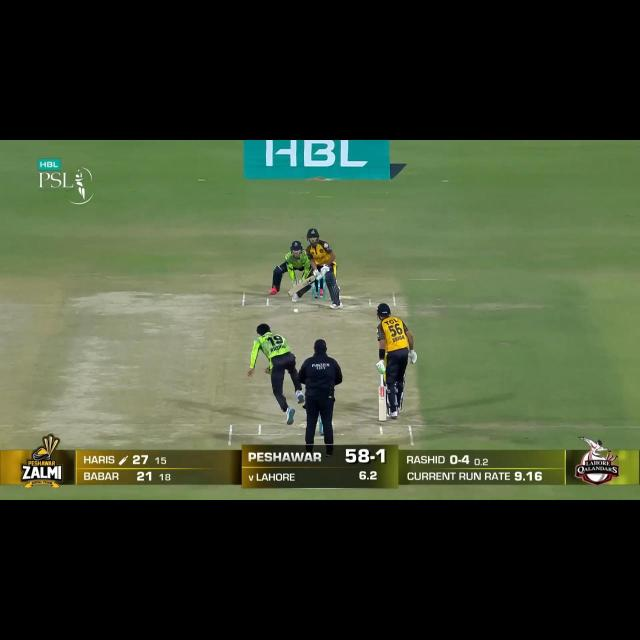bat: (287, 276, 315, 298), (378, 386, 386, 422)
toe: (286, 290, 294, 298), (379, 416, 387, 422)
